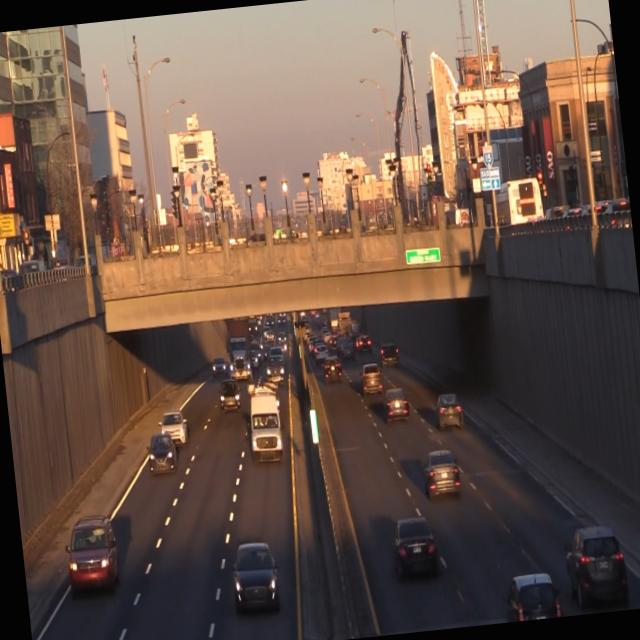Vehicle: (564, 526, 633, 611), (66, 515, 122, 594), (230, 540, 285, 613), (501, 564, 567, 622), (391, 516, 443, 580), (247, 390, 287, 464), (418, 450, 464, 502), (225, 318, 255, 383), (146, 432, 182, 477), (434, 389, 464, 432), (160, 408, 192, 447), (384, 388, 412, 422), (218, 377, 244, 412), (360, 361, 385, 397), (264, 354, 288, 386), (322, 355, 344, 385), (379, 342, 401, 368), (210, 355, 230, 378)
